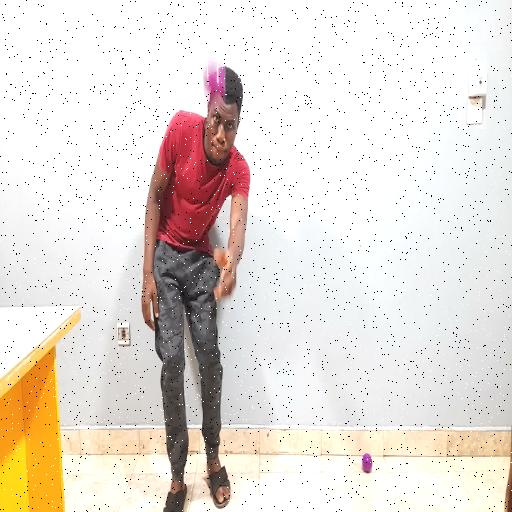plastic-ball: (202, 54, 224, 97)
